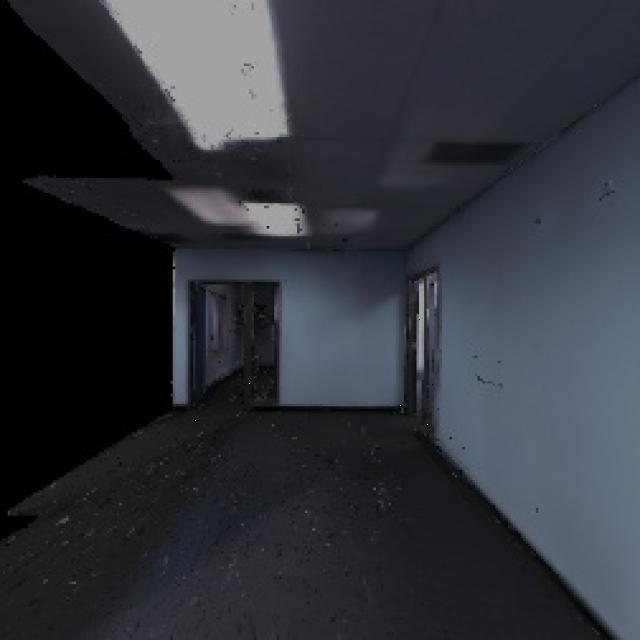door-frame: (180, 278, 303, 427), (398, 270, 446, 448)
